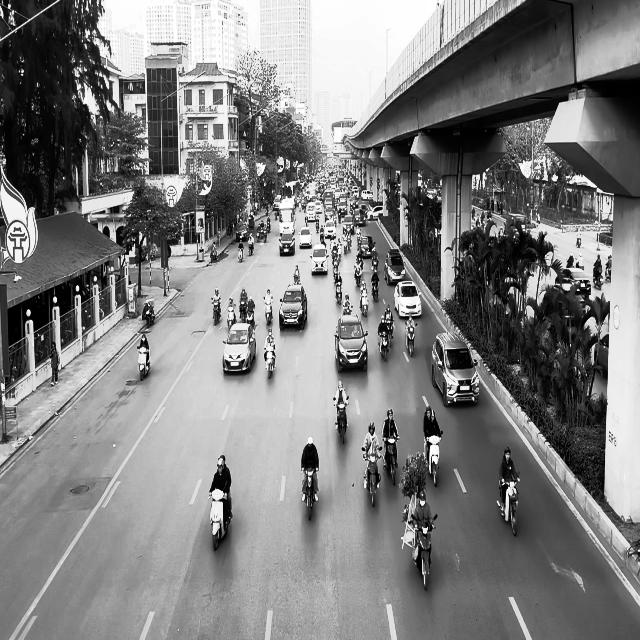car: (431, 331, 480, 407), (334, 313, 368, 373), (540, 283, 586, 327), (222, 322, 256, 374), (279, 283, 307, 331), (394, 280, 422, 318), (555, 268, 591, 296), (384, 250, 406, 286), (310, 244, 328, 275), (279, 232, 295, 255), (298, 226, 312, 248), (235, 222, 249, 241)
motorbike: (411, 514, 437, 590), (497, 473, 520, 536), (209, 489, 232, 551), (362, 446, 382, 507), (423, 432, 443, 486), (301, 466, 318, 520), (382, 436, 400, 486), (333, 397, 349, 444), (137, 346, 150, 380), (405, 322, 417, 357), (264, 346, 276, 378), (378, 328, 389, 361), (143, 299, 155, 326), (263, 296, 273, 325), (211, 298, 221, 324), (384, 321, 394, 347), (593, 264, 602, 289), (359, 292, 368, 316), (371, 276, 379, 301), (227, 307, 236, 329), (248, 239, 254, 256), (238, 244, 243, 263)
